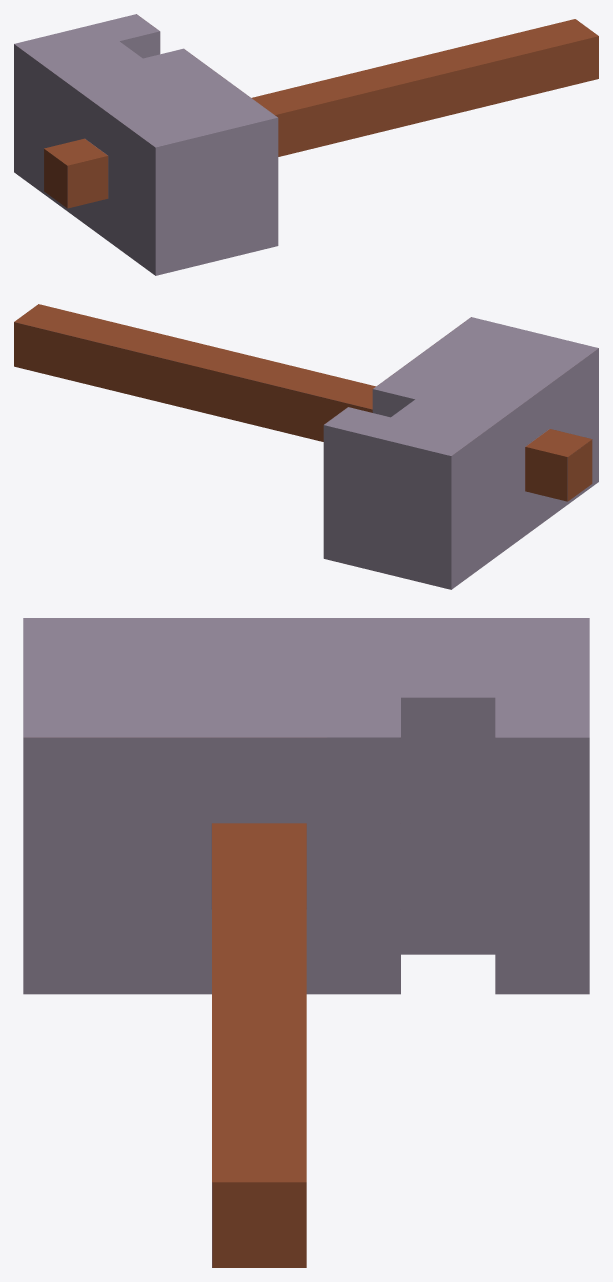
File: IKEA_Martillo.fbx
The picture shows the model from 3 angles, top to bottom: view 1: azimuth 30°, elevation 25°; view 2: azimuth 150°, elevation 25°; view 3: azimuth 270°, elevation 25°; orthographic projection. The views are drawn at different scales.
Visible parts, largest first — view 1: IKEA_Martillo; view 2: IKEA_Martillo; view 3: IKEA_Martillo.
Part boxes in pixels (x1,y1,x2,y2): IKEA_Martillo: (14, 14, 598, 275); IKEA_Martillo: (14, 304, 598, 589); IKEA_Martillo: (23, 618, 589, 1267).
Bounding box in the file's own units: 130 × 30 × 60.
